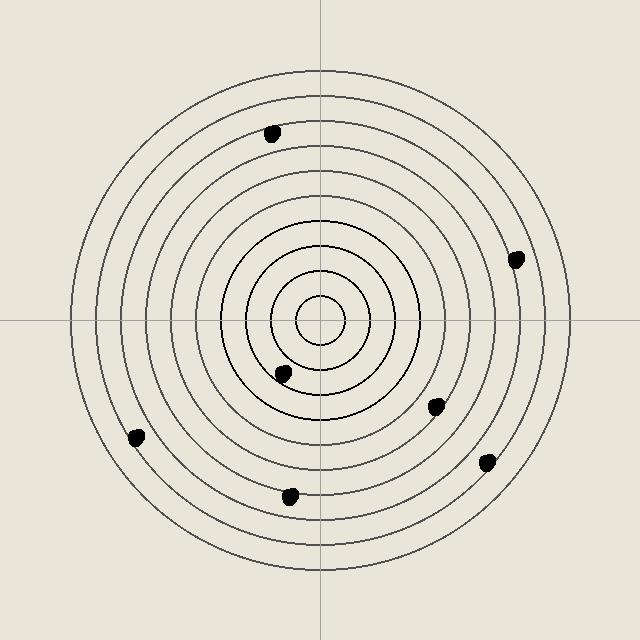random_scatter: (505, 249, 525, 269), (125, 427, 145, 447), (261, 123, 281, 143), (279, 486, 299, 506), (425, 396, 445, 416), (272, 363, 292, 383), (476, 452, 496, 472)
